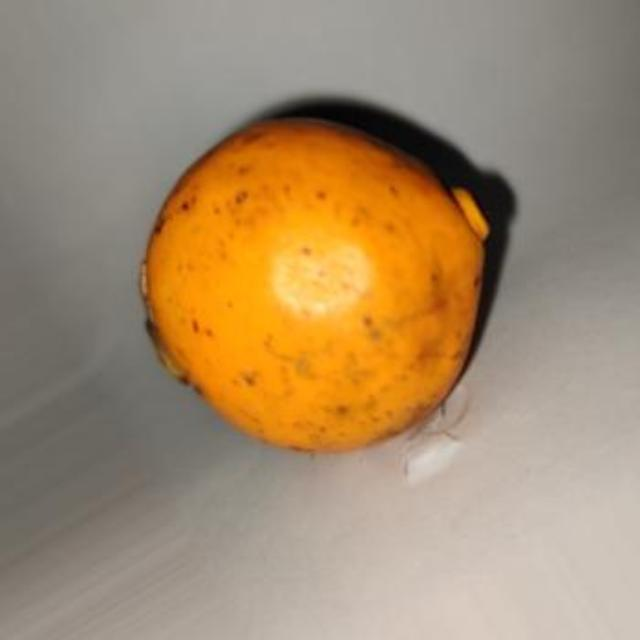good: (139, 108, 503, 453)
